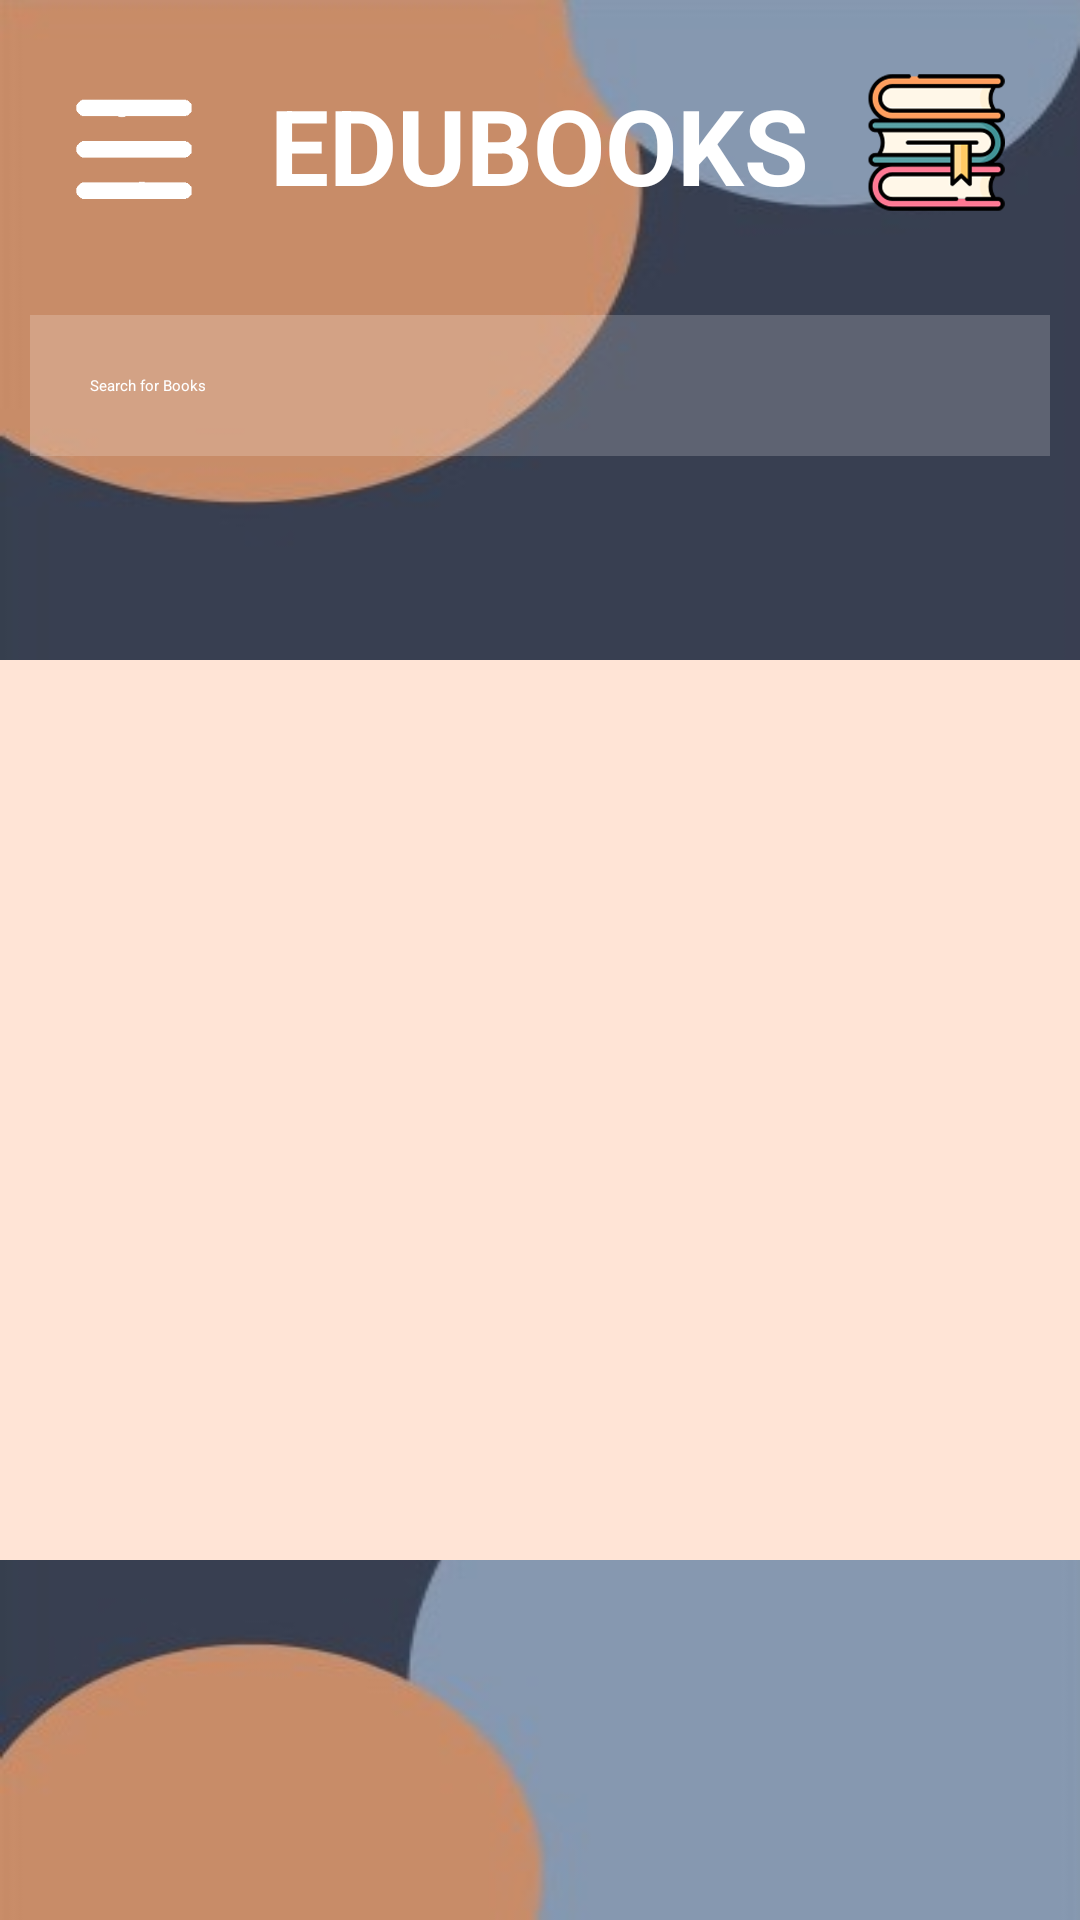

Locate icon controls on the screen. Image size 1080 × 1920, boxes as (x1, y1, x2, y2).
menuwhite: (76, 99, 192, 199)
